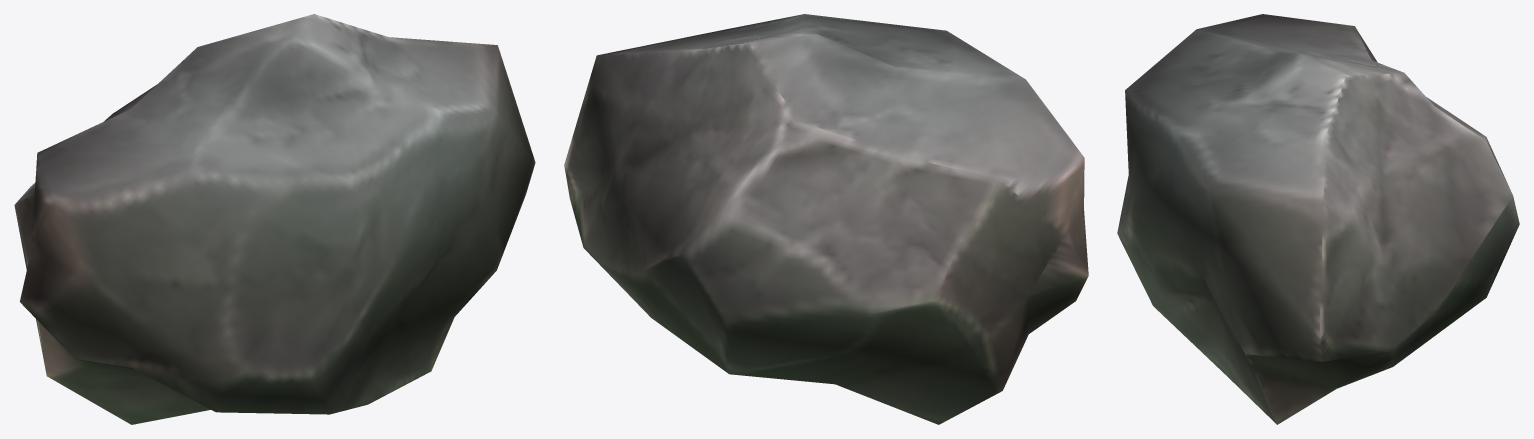
Rendered from Small 3.fbx.
3 renders of one model, left to right at view 1: azimuth 30°, elevation 25°; view 2: azimuth 150°, elevation 25°; view 3: azimuth 270°, elevation 25°, orthographic. The views are drawn at different scales.
Parts seen in each view (by area): view 1: Small_3; view 2: Small_3; view 3: Small_3.
Part boxes in pixels (x1,y1,x2,y2): Small_3: [14, 14, 535, 424]; Small_3: [564, 14, 1088, 424]; Small_3: [1117, 14, 1519, 424].
Size of the model in its own units: 199 by 129 by 145.
